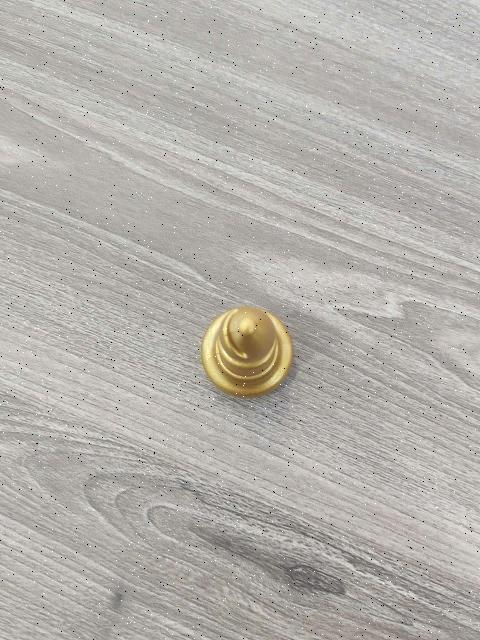black_bishop: (199, 297, 297, 404)
